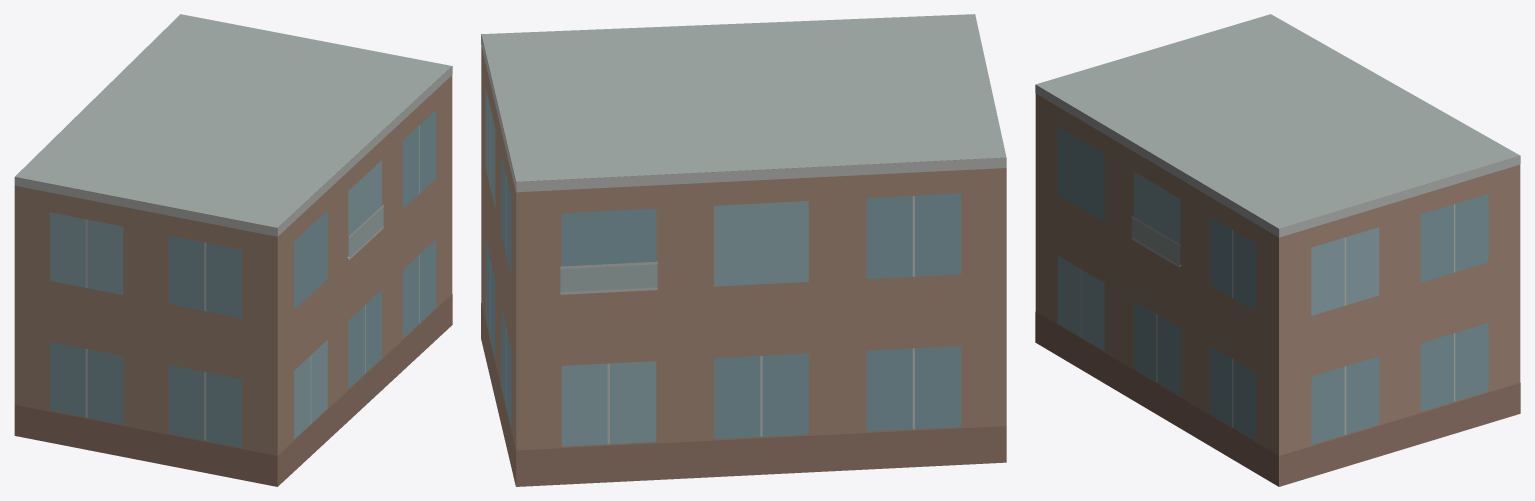
The model's file is survey-upis-32584860.glb.
3 renders of one model, left to right at view 1: azimuth 30°, elevation 25°; view 2: azimuth 150°, elevation 25°; view 3: azimuth 270°, elevation 25°, orthographic. The views are drawn at different scales.
Parts seen in each view (by area): view 1: survey-upis-32584860.tmp; view 2: survey-upis-32584860.tmp; view 3: survey-upis-32584860.tmp.
Boxes of the visible parts, x1=… form: survey-upis-32584860.tmp: x1=14, y1=14, x2=452, y2=486; survey-upis-32584860.tmp: x1=481, y1=14, x2=1006, y2=486; survey-upis-32584860.tmp: x1=1035, y1=14, x2=1520, y2=486.
Bounding box in the file's own units: 12.68 × 7.1 × 12.1.
